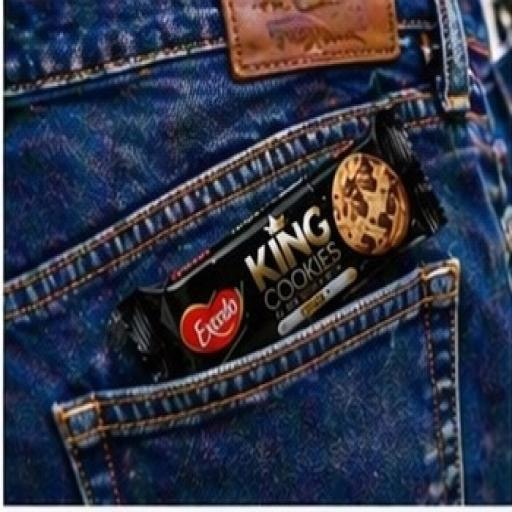king-cooking: (109, 81, 467, 399)
